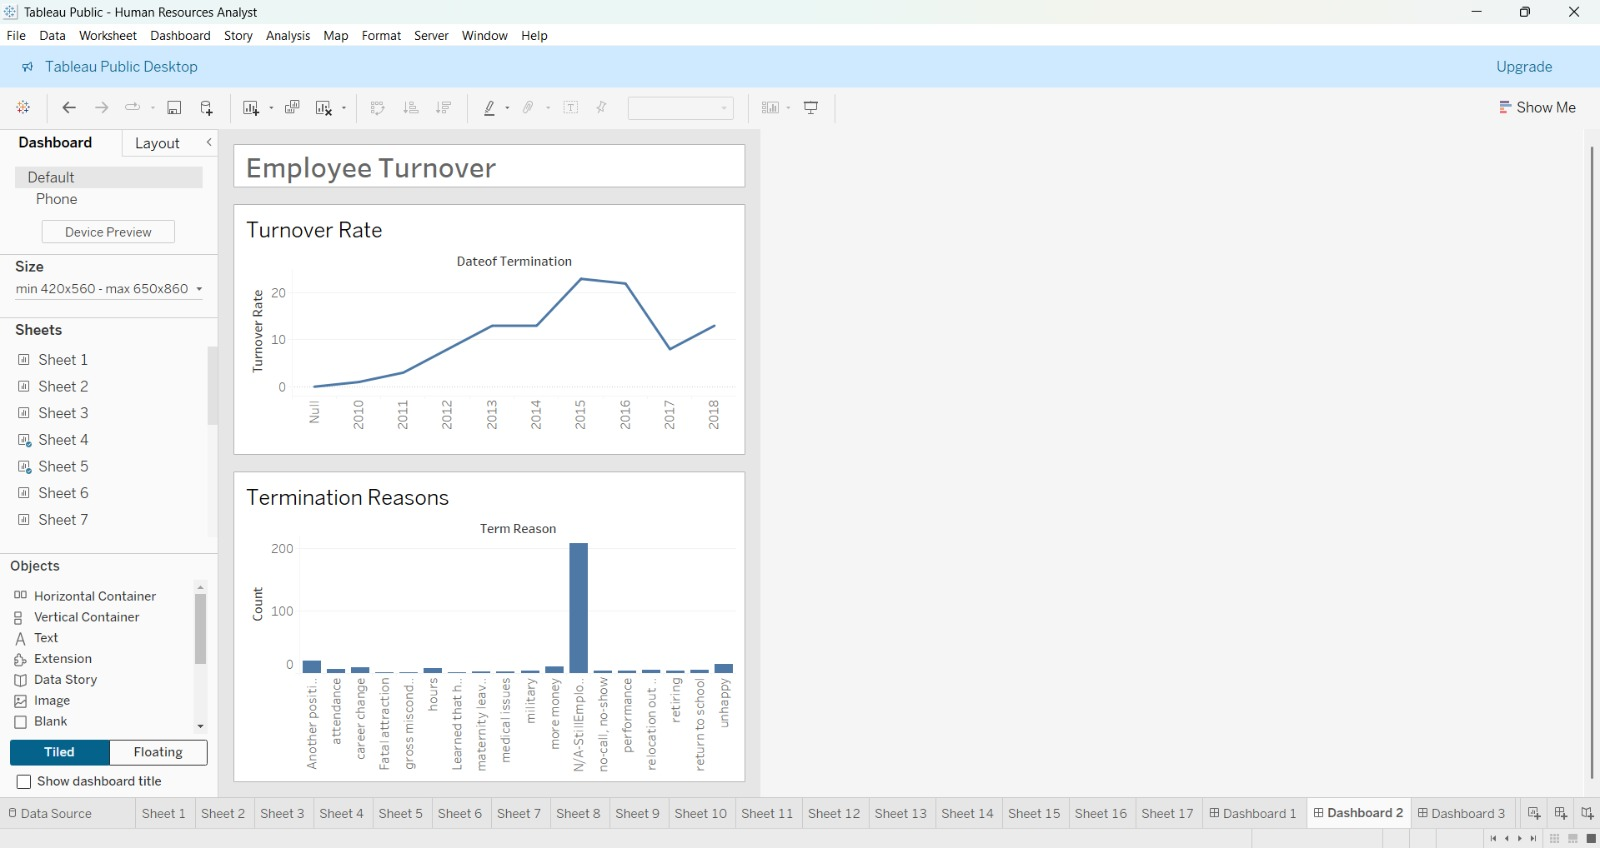

The dashboard page shown, as its layout file describes it:
{"tool":"tableau","page":{"name":"Dashboard 2","canvas":[650,860],"ordinal":1},"visuals":[{"type":"text","box":[8,8.6,634,77.3]},{"type":"worksheet","title":"Sheet 4","mark":"Automatic","rows":["Calculation_1422574578610319361"],"cols":["DateofTermination"],"box":[8,85.9,634,344.1]},{"type":"worksheet","title":"Sheet 5","mark":"Automatic","rows":["Calculation_1635651135752892417"],"cols":["TermReason"],"box":[8,430,634,421.4]}]}

Visuals, with their boxes on the page's 650x860 design canvas (x1, y1, x2, y2). These are canvas units, not pixel positions in the 1600x848 screenshot, which may show the page scaled, cropped or inside an application window:
text: rect(8, 9, 642, 86)
"Sheet 4" worksheet: rect(8, 86, 642, 430)
"Sheet 5" worksheet: rect(8, 430, 642, 851)
